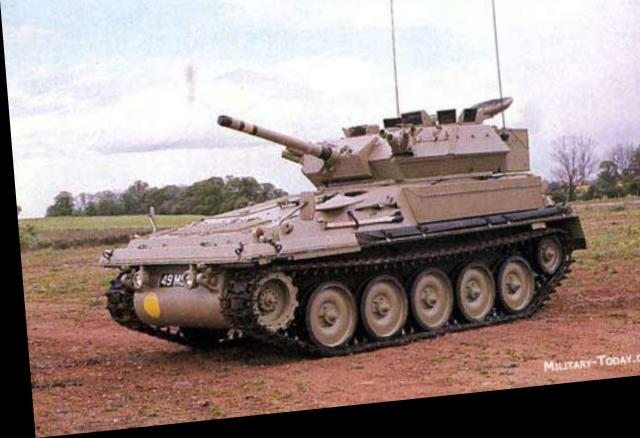tank: (103, 91, 584, 373)
